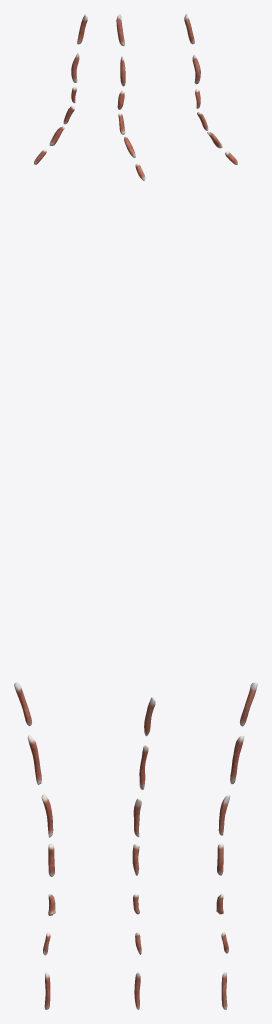
Rendered from interspinales_left.glb.
3 renders of one model, left to right at view 1: azimuth 90°, elevation 25°; view 2: azimuth 210°, elevation 25°; view 3: azimuth 270°, elevation 25°, orthographic.
Parts seen in each view (by area): view 1: Interspinales lumborum muscles.l, Interspinales cervicis muscles.l; view 2: Interspinales lumborum muscles.l, Interspinales cervicis muscles.l; view 3: Interspinales lumborum muscles.l, Interspinales cervicis muscles.l.
Part boxes in pixels (x1,y1,x2,y2): Interspinales lumborum muscles.l: (14, 682, 55, 1009); Interspinales cervicis muscles.l: (34, 14, 87, 164); Interspinales lumborum muscles.l: (132, 697, 155, 1009); Interspinales cervicis muscles.l: (116, 14, 145, 180); Interspinales lumborum muscles.l: (216, 682, 257, 1009); Interspinales cervicis muscles.l: (184, 14, 237, 164).
Bounding box in the file's own units: 0.00757 × 0.5816 × 0.0388.
Materials: 2 (2 with a texture image).
